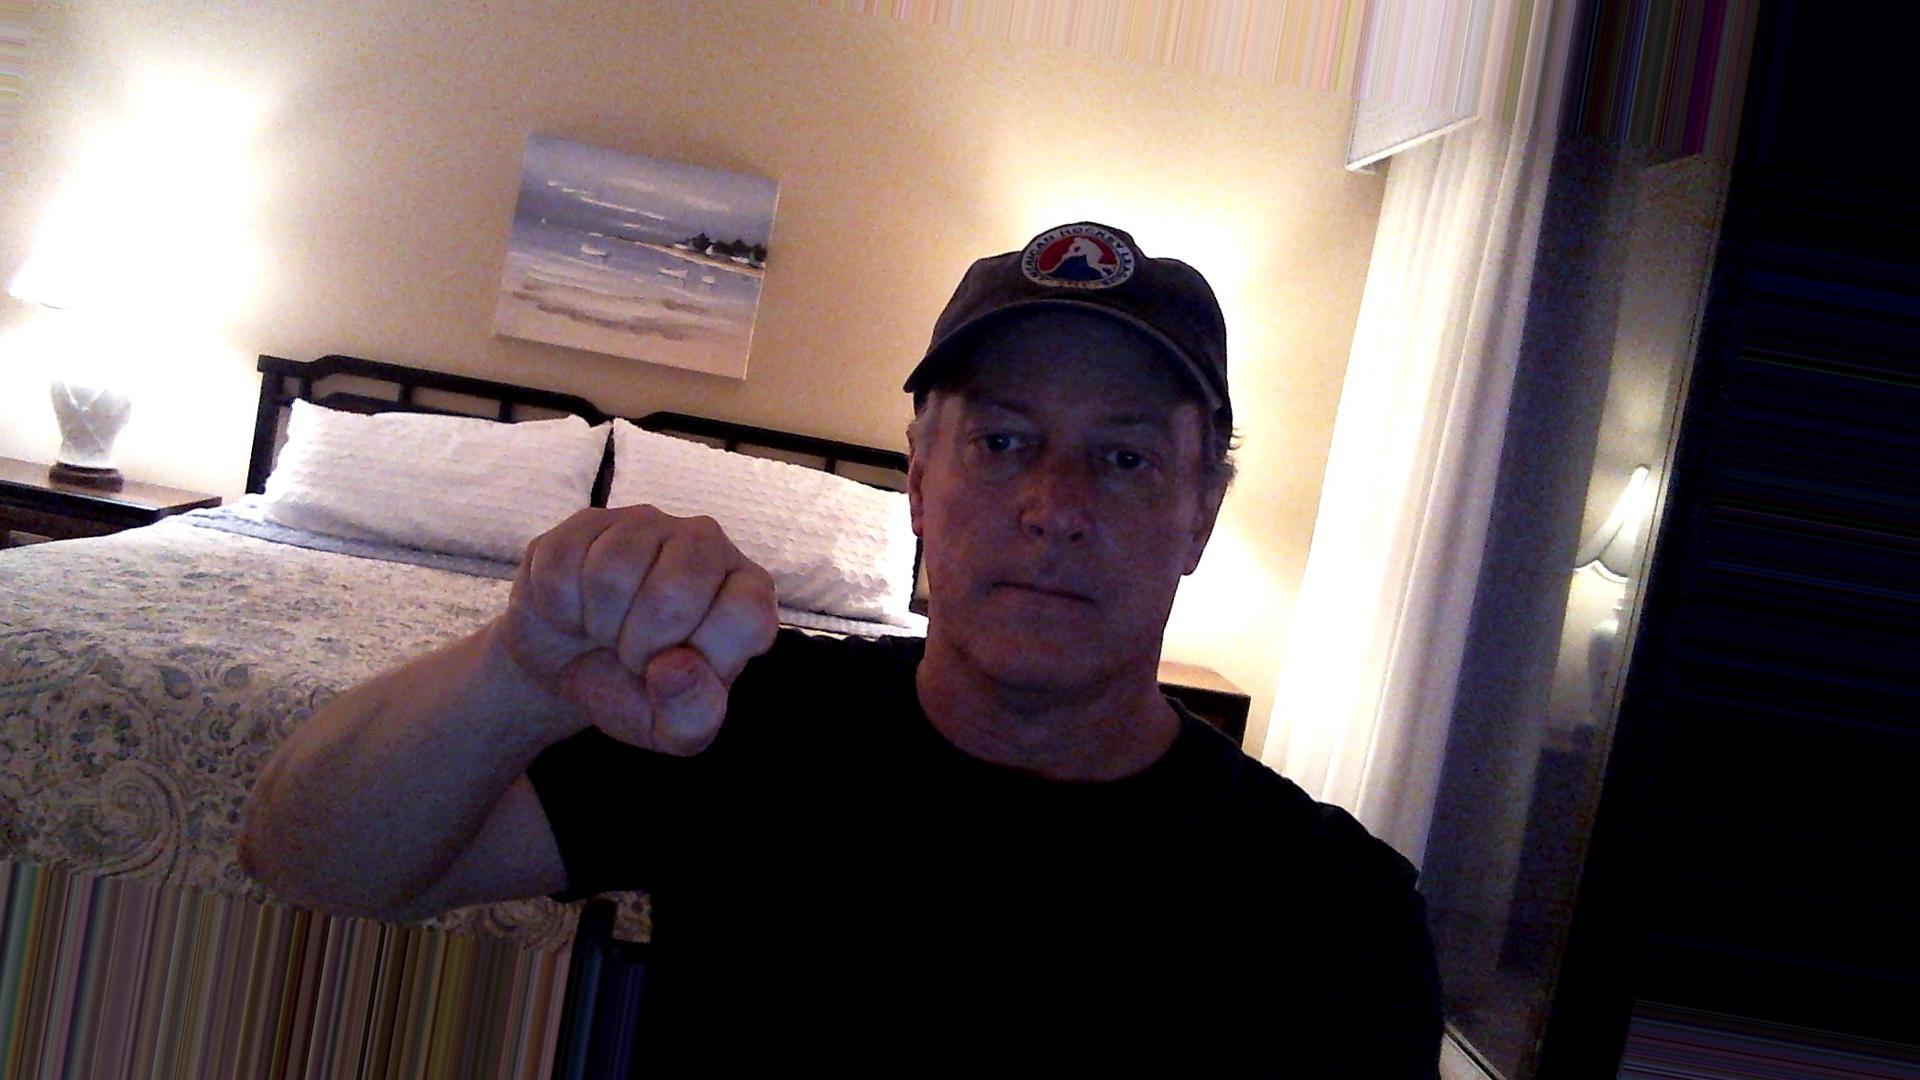Yes: (493, 491, 795, 775)
